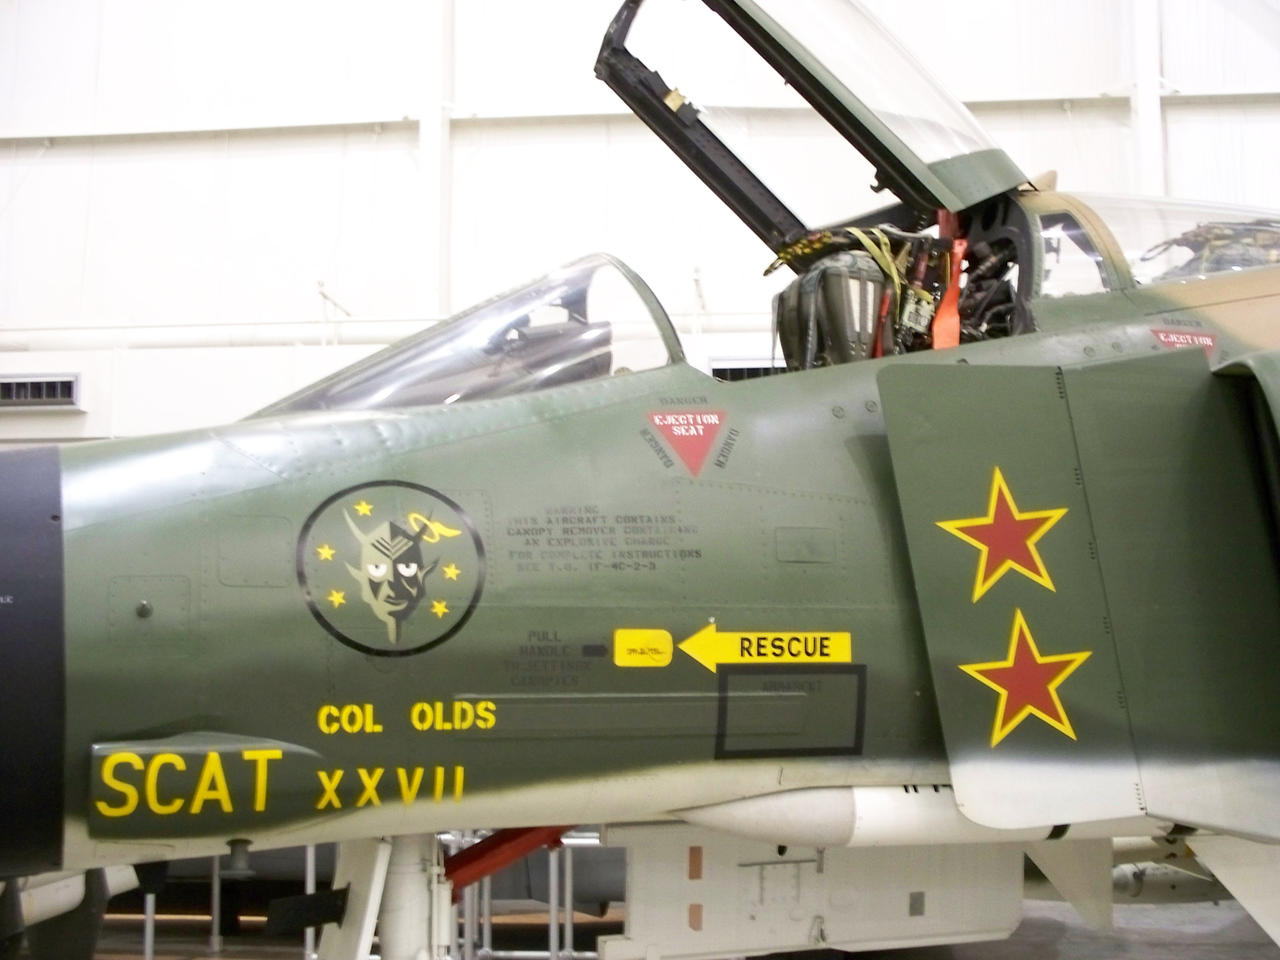F4: (1, 1, 1280, 960)
